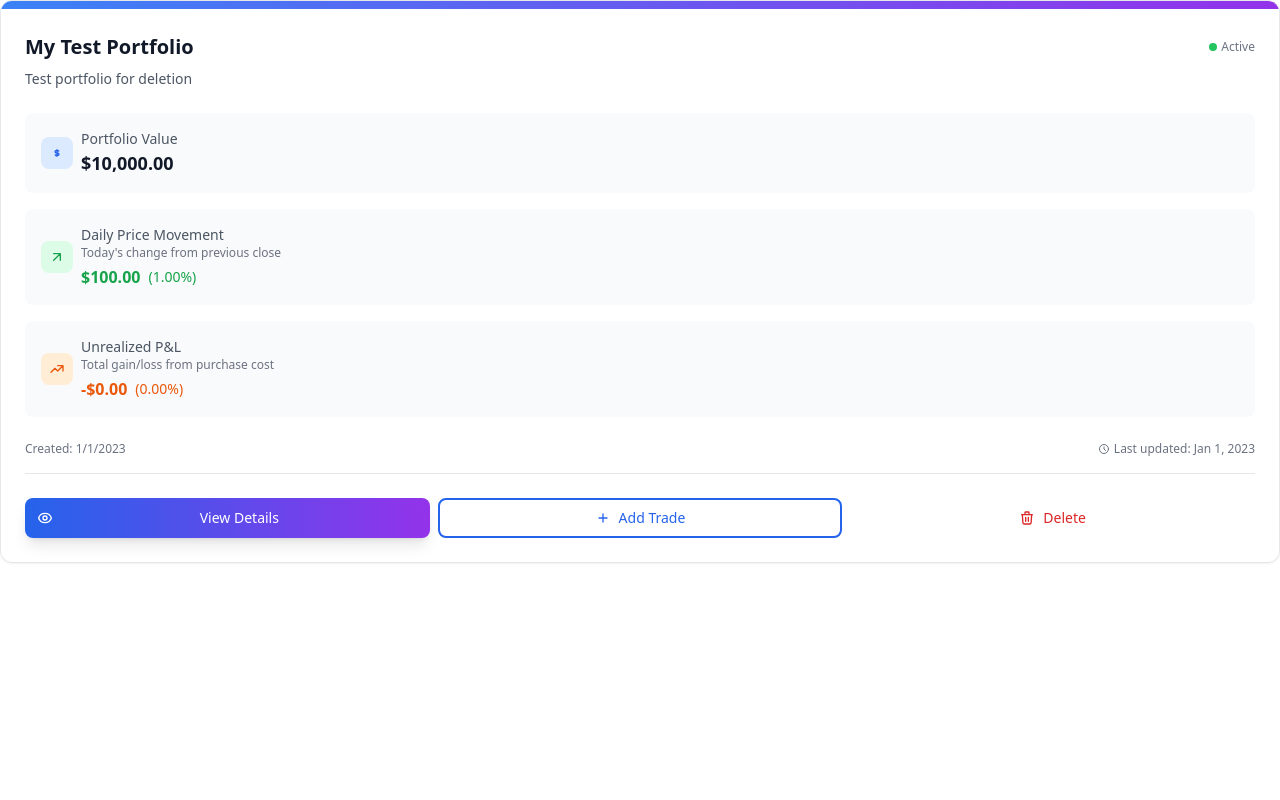
Test: PortfolioCard with Delete Functionality › should open deletion modal when delete button is clicked
Click the button "Delete" at (1053, 518), box [850,498,1255,538]
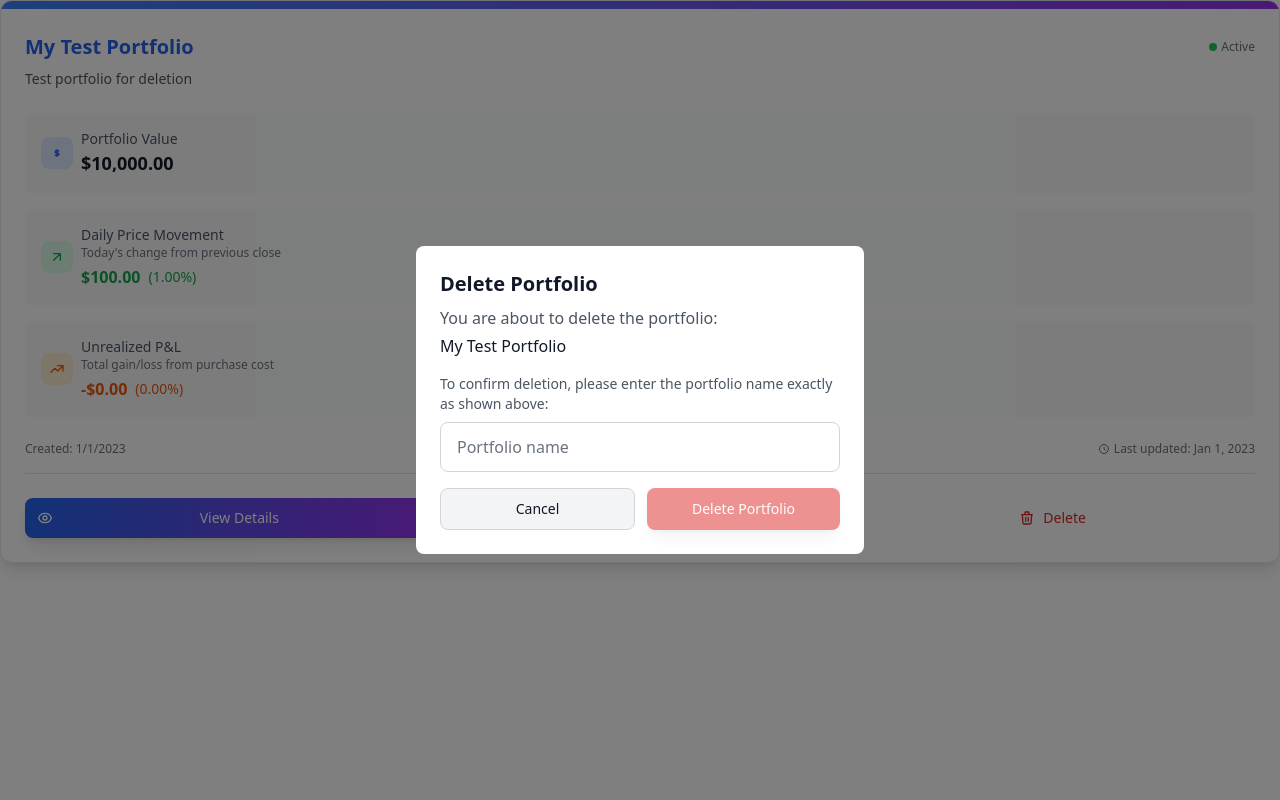
Expected: the heading "Delete Portfolio" is shown, [440,270,598,297]
Expected: the field with placeholder "Portfolio name" is shown, [440,422,840,472]
